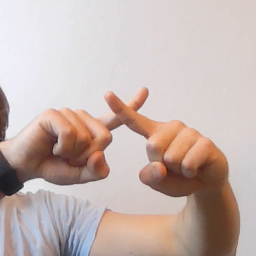X: (15, 84, 232, 198)
